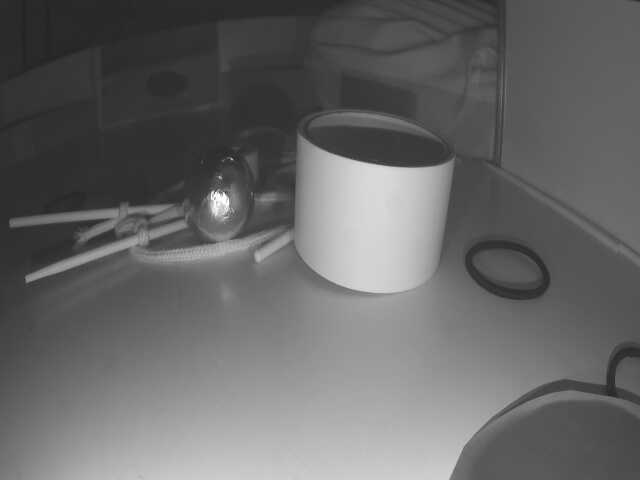Live: (180, 153, 257, 239)
Point: (0, 99, 97, 174), (220, 73, 339, 113)
